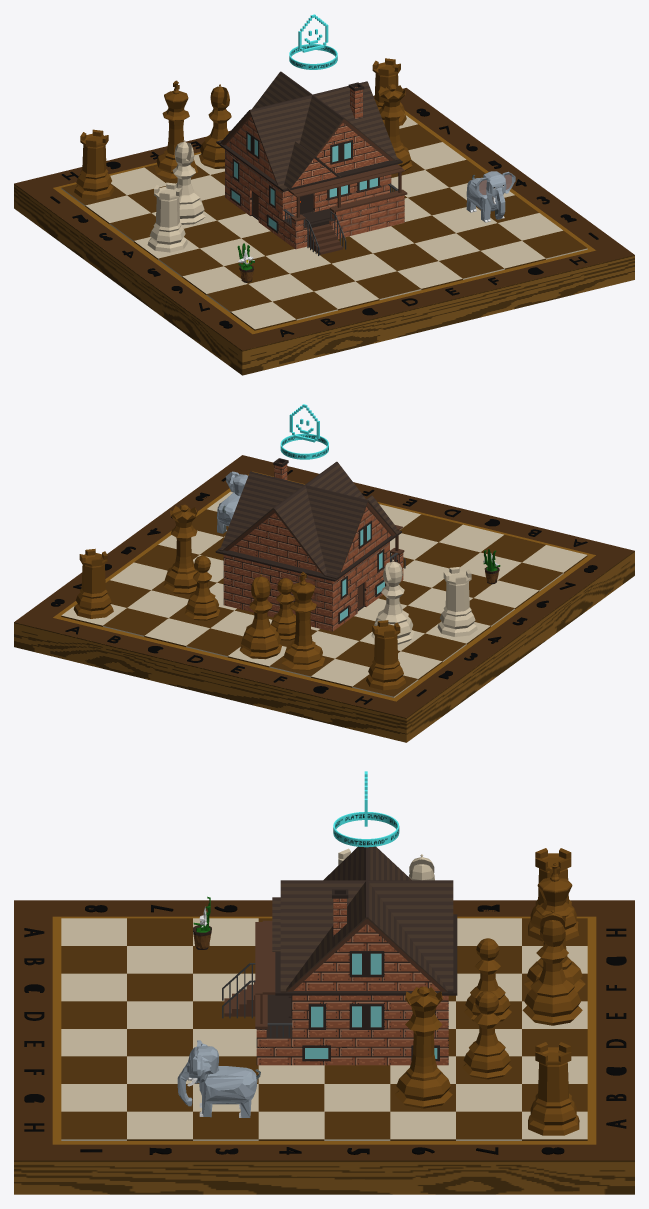
3 views of the same model, one above another, from view 1: azimuth 30°, elevation 25°; view 2: azimuth 150°, elevation 25°; view 3: azimuth 270°, elevation 25° (orthographic). The views are drawn at different scales.
Parts seen in each view (by area): view 1: Cube.002, Cube.469, ANIMAL_ELEFANTE, TYPE_PREMIUM; view 2: Cube.002, Cube.469, TYPE_PREMIUM, ANIMAL_ELEFANTE; view 3: Cube.002, Cube.469, ANIMAL_ELEFANTE, TYPE_PREMIUM, OBJRANDOM_MONJA BLANCA.
Boxes of the visible parts, x1,y1,x2,y2 form: Cube.002: [14, 58, 634, 375]; Cube.469: [216, 71, 407, 255]; ANIMAL_ELEFANTE: [466, 171, 515, 222]; TYPE_PREMIUM: [289, 14, 337, 69]; Cube.002: [14, 455, 634, 742]; Cube.469: [215, 458, 405, 631]; TYPE_PREMIUM: [280, 404, 328, 459]; ANIMAL_ELEFANTE: [217, 471, 247, 533]; Cube.002: [14, 848, 634, 1194]; Cube.469: [222, 846, 457, 1065]; ANIMAL_ELEFANTE: [177, 1040, 260, 1117]; TYPE_PREMIUM: [333, 771, 399, 847]; OBJRANDOM_MONJA BLANCA: [193, 896, 211, 949].
Bounding box in the file's own units: 3981 × 2201 × 4012.
Materials: 29 (5 with a texture image).
